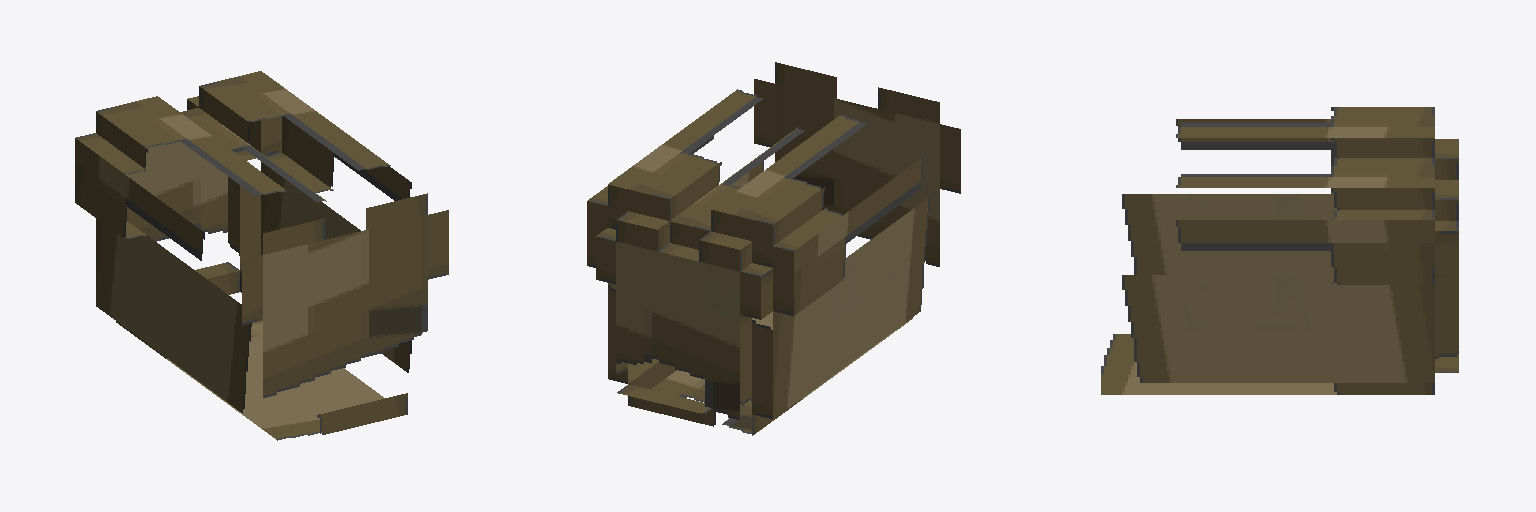
The picture shows the model from 3 angles: view 1: azimuth 30°, elevation 25°; view 2: azimuth 150°, elevation 25°; view 3: azimuth 270°, elevation 25°; orthographic projection.
Visible parts, largest first — view 1: Model; view 2: Model; view 3: Model.
Part boxes in pixels (bbox=[...]): Model: bbox=[75, 71, 448, 440]; Model: bbox=[587, 62, 960, 435]; Model: bbox=[1101, 107, 1458, 394].
Bounding box in the file's own units: 21.33 × 21.33 × 32.
Materials: 1 (1 with a texture image).